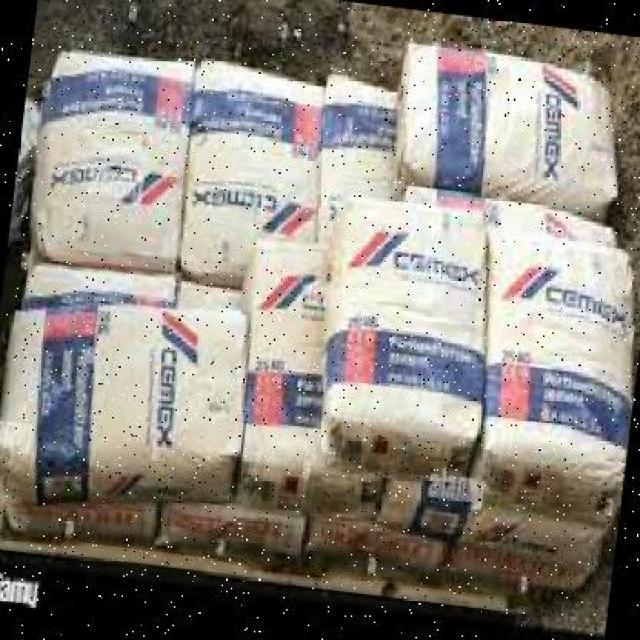gunny_bag: (323, 204, 489, 436), (0, 307, 248, 456), (483, 225, 630, 460), (38, 48, 191, 267), (181, 55, 322, 286), (406, 44, 614, 200), (381, 474, 600, 573), (244, 244, 338, 460), (319, 78, 400, 219), (440, 535, 592, 593), (305, 515, 450, 573), (158, 500, 303, 557), (0, 492, 153, 541), (24, 261, 179, 306), (485, 197, 613, 250), (404, 176, 485, 224), (173, 271, 242, 315)
